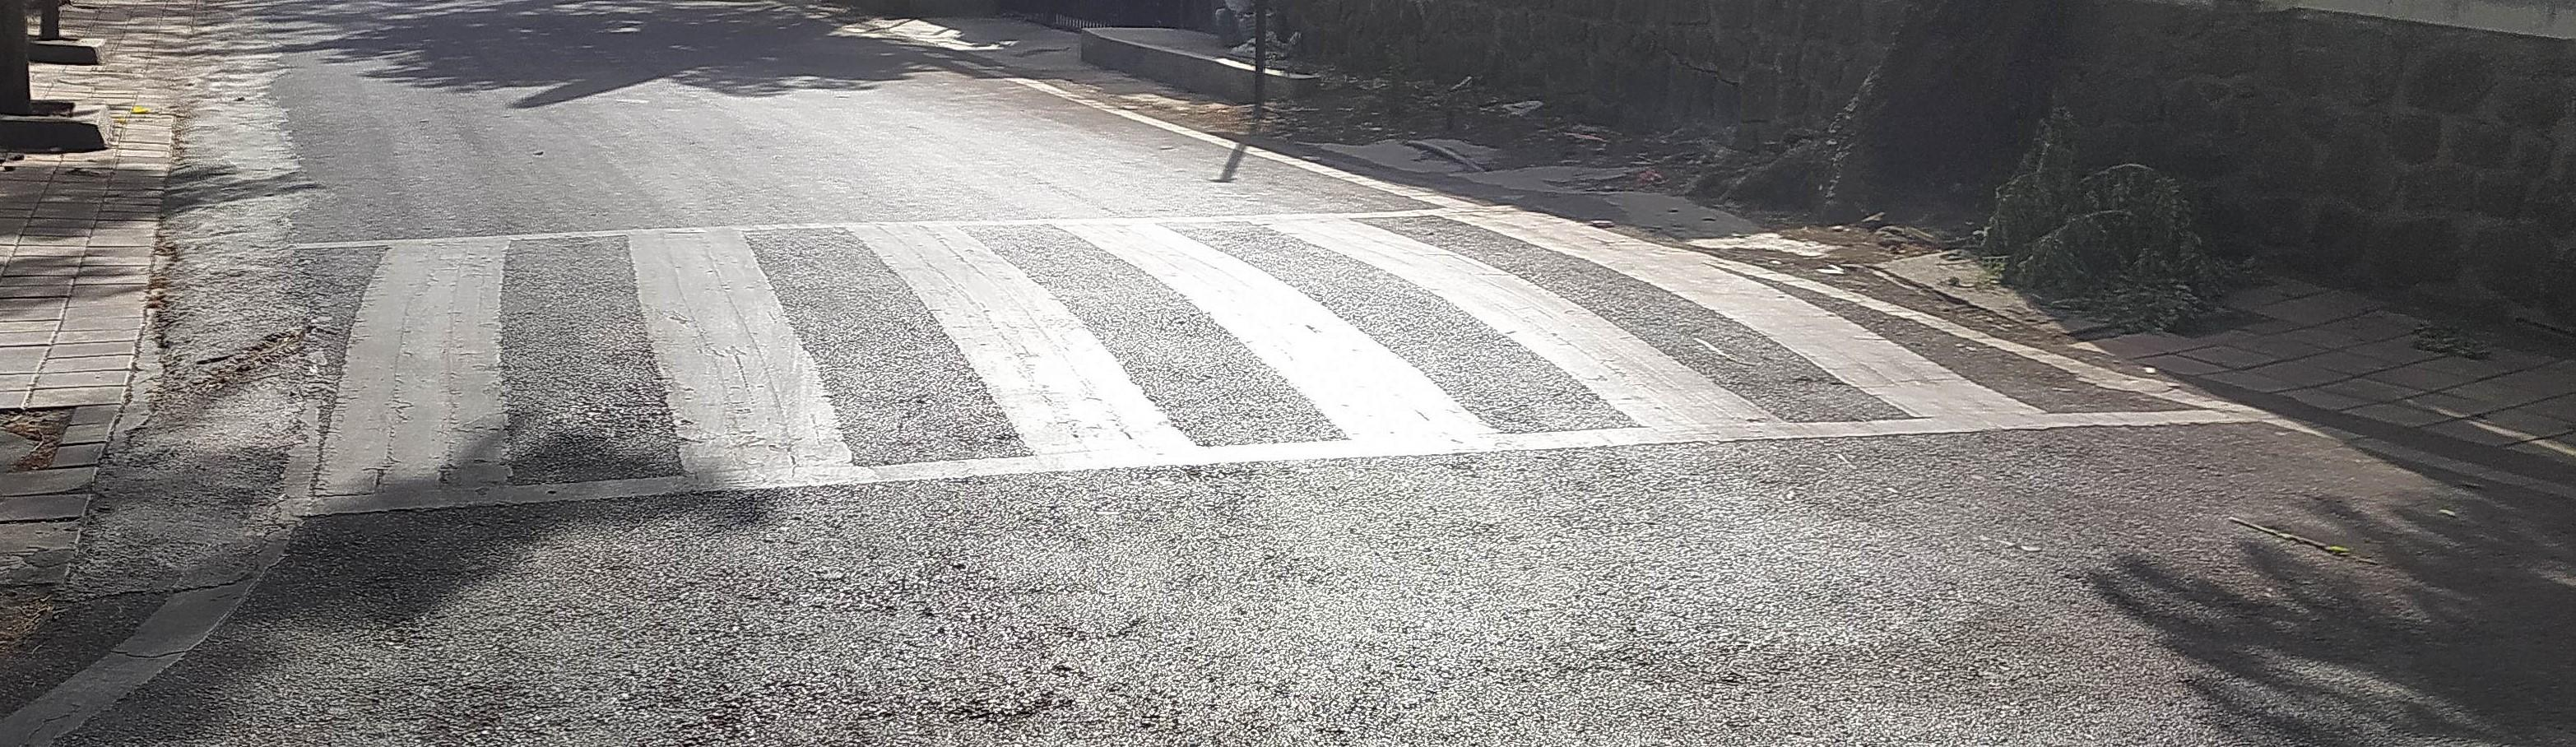speed-bump: (169, 188, 2287, 545)
